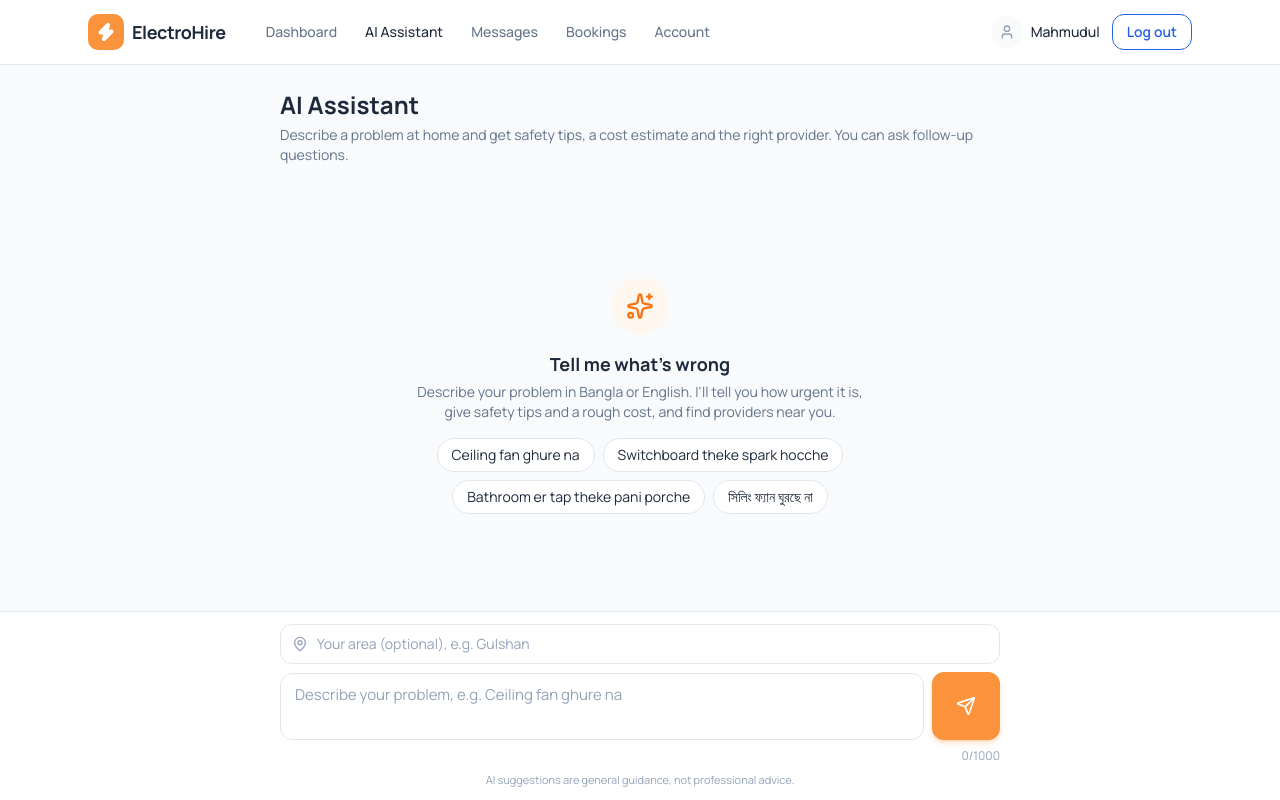
AI answer sources (Tavily) › shows sources as safe external links with a "not verified" note
This screenshot has width=1280, height=800.
Type "Ceiling fan ghure na" into the text box labelled "Describe your problem, e.g. Ceiling fan ghure na".
click(602, 706); type("Ceiling fan ghure na")  # box [280,672,924,740]
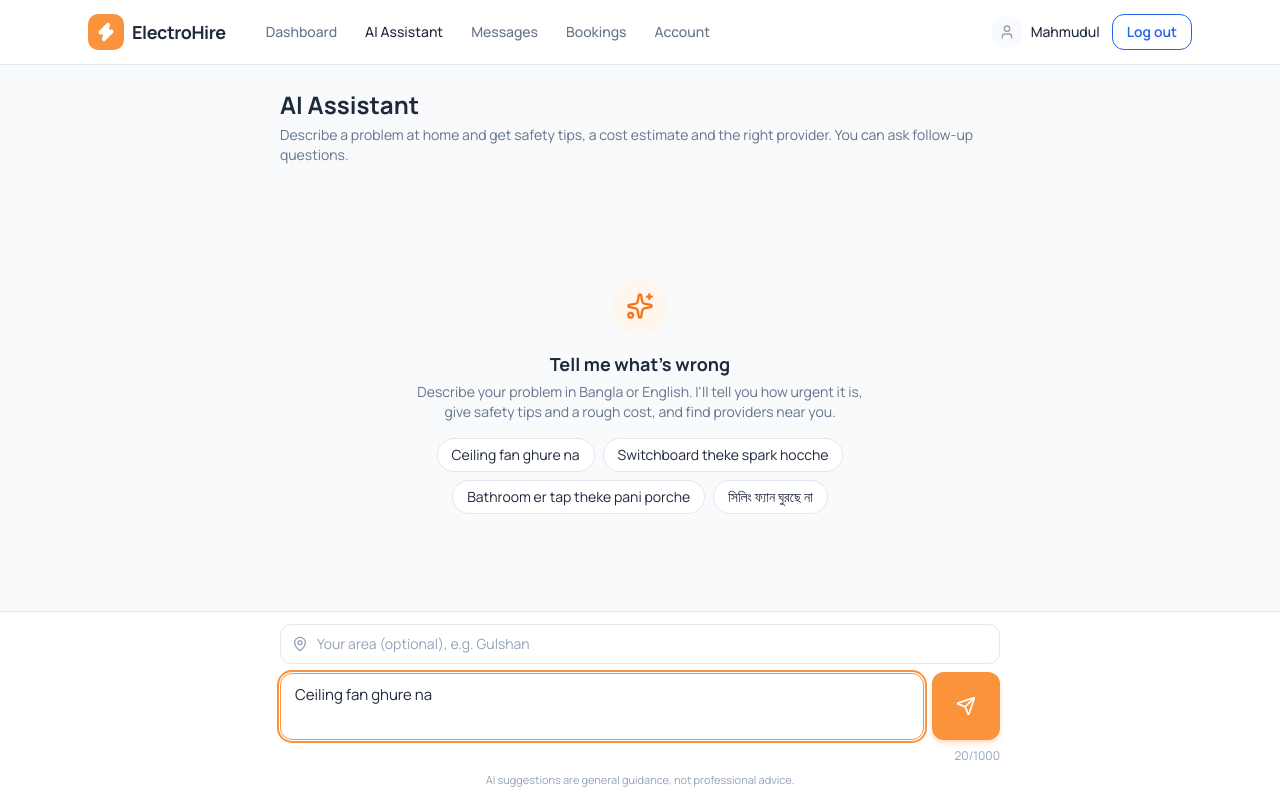
Click the button named "send".
click(966, 706)  # box [932,672,1000,740]
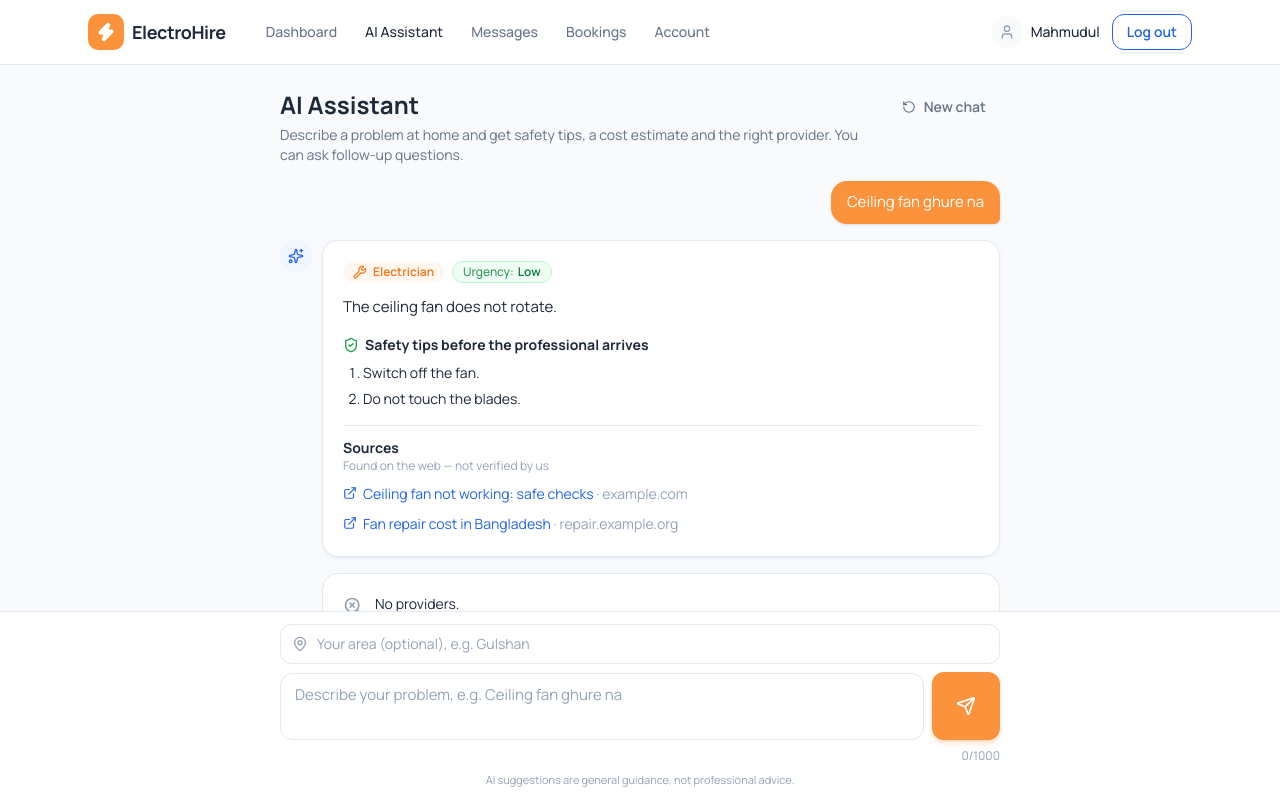
Expected: the heading "Sources" is shown, [343,438,399,457]
Expected: the text "Found on the web — not verified by us" is shown, [343,457,549,474]
Expected: the link "Ceiling fan not working: safe checks · example.com" is shown, [343,484,688,504]
